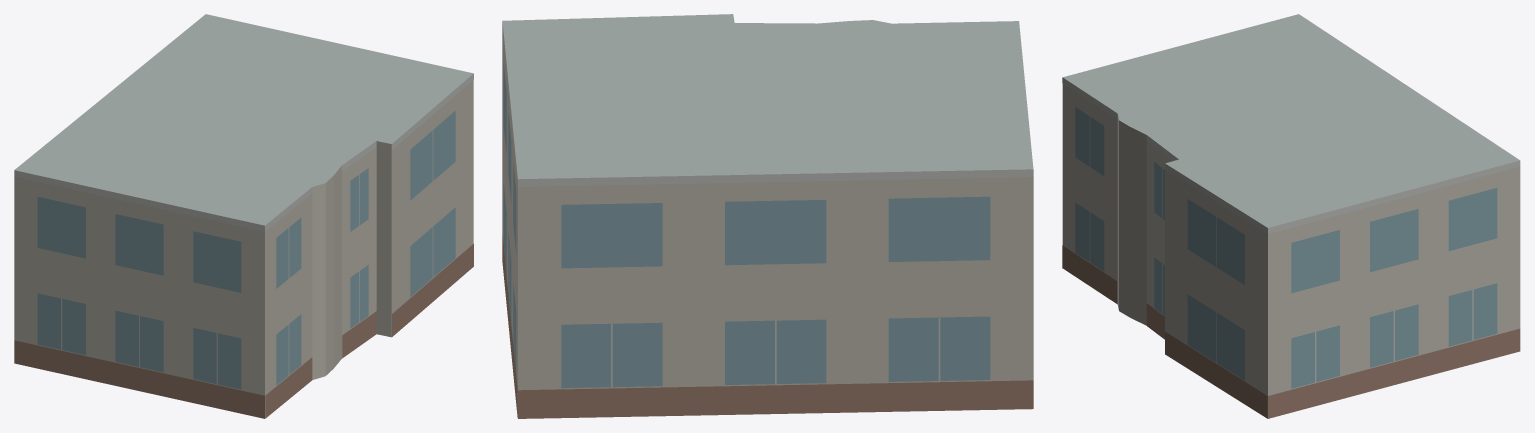
File: survey-upis-32624874.glb
3 views of the same model, side by side, from view 1: azimuth 30°, elevation 25°; view 2: azimuth 150°, elevation 25°; view 3: azimuth 270°, elevation 25° (orthographic). The views are drawn at different scales.
Visible parts, largest first — view 1: survey-upis-32624874.tmp; view 2: survey-upis-32624874.tmp; view 3: survey-upis-32624874.tmp.
Boxes of the visible parts, x1=… form: survey-upis-32624874.tmp: x1=14, y1=14, x2=473, y2=418; survey-upis-32624874.tmp: x1=502, y1=14, x2=1033, y2=418; survey-upis-32624874.tmp: x1=1062, y1=14, x2=1520, y2=418.
Size of the model in its own units: 18.28 by 7.6 by 16.53.
